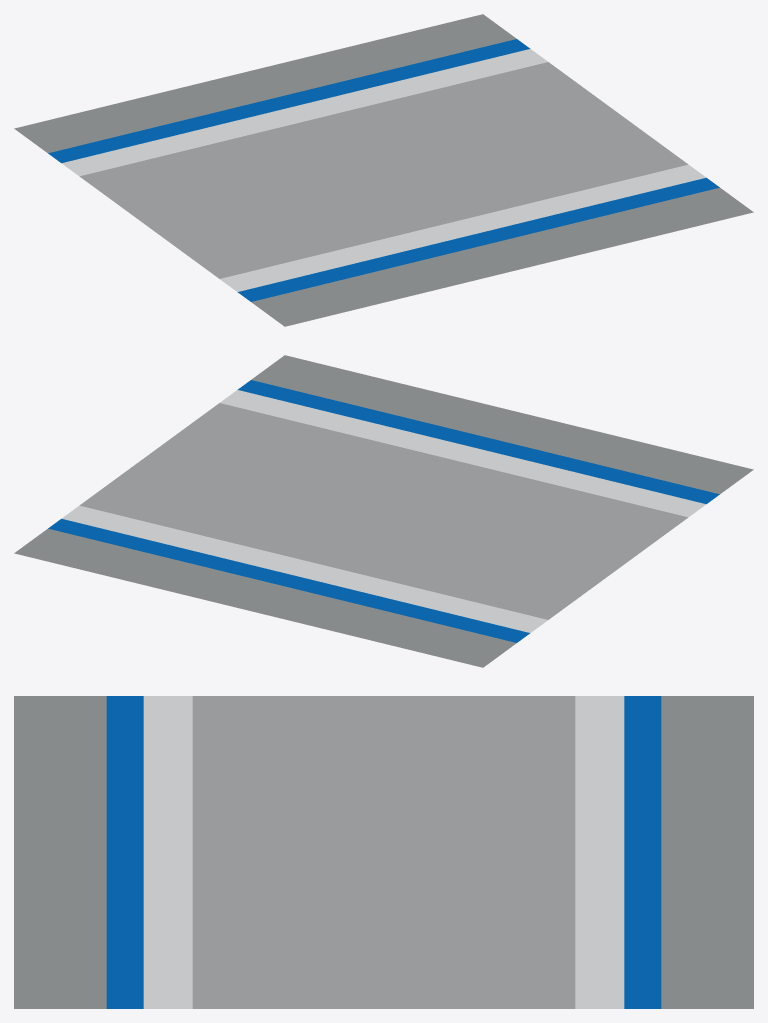
Rendered from Ceiling_type_A_030.fbx.
3 renders of one model, top to bottom at view 1: azimuth 30°, elevation 25°; view 2: azimuth 150°, elevation 25°; view 3: azimuth 270°, elevation 25°, orthographic. The views are drawn at different scales.
Visible parts, largest first — view 1: Ceiling_type_A_030; view 2: Ceiling_type_A_030; view 3: Ceiling_type_A_030.
Boxes of the visible parts, x1,y1,x2,y2 form: Ceiling_type_A_030: (14,14,753,326); Ceiling_type_A_030: (14,355,753,667); Ceiling_type_A_030: (14,696,753,1008).
Bounding box in the file's own units: 400 × 400 × 6.18.
